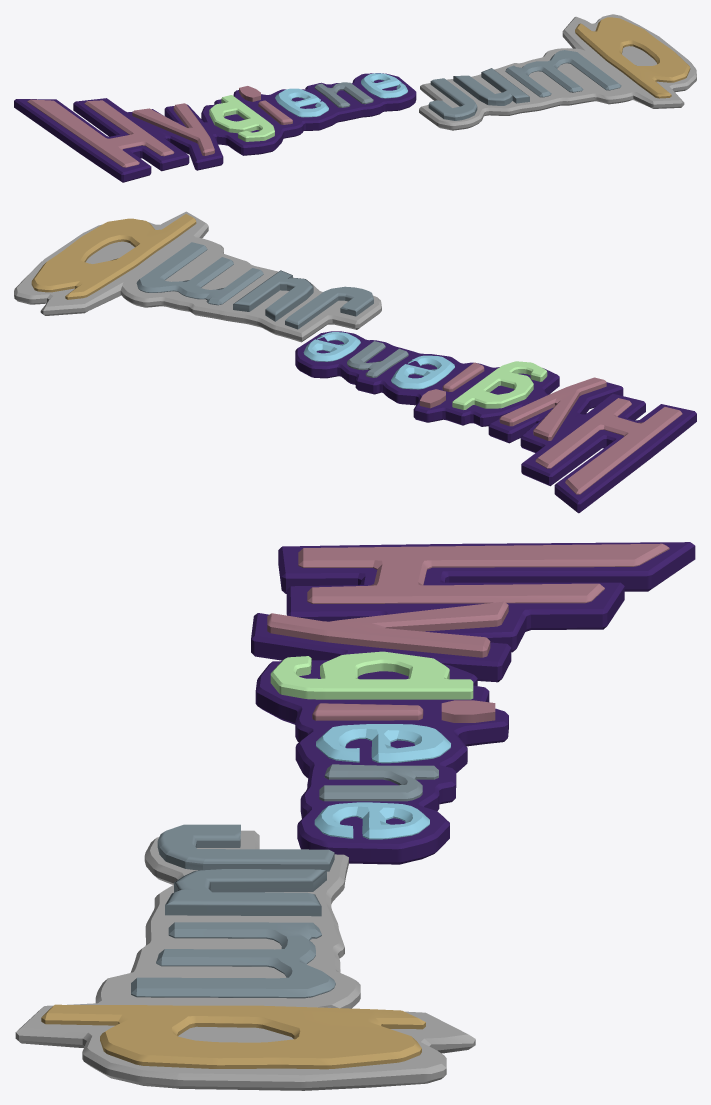
The model's file is Hygiene Jump.fbx.
The picture shows the model from 3 angles, top to bottom: view 1: azimuth 30°, elevation 25°; view 2: azimuth 150°, elevation 25°; view 3: azimuth 270°, elevation 25°; orthographic projection. The views are drawn at different scales.
Visible parts, largest first — view 1: pasted__i8, pasted__pCube8, pasted__p1, i4, h6, g1, i5, h4, h5, pasted__e5, pasted__e6, pasted__h3 (+1 smaller); view 2: pasted__i8, pasted__pCube8, pasted__p1, i4, h6, g1, i5, h4, h5, pasted__e5, pasted__e6, pasted__h3 (+1 smaller); view 3: pasted__i8, pasted__pCube8, pasted__p1, i4, h6, i5, g1, h4, h5, pasted__e5, pasted__h3, pasted__e6 (+2 smaller).
Part boxes in pixels (x1,y1,x2,y2): pasted__i8: (14, 73, 416, 182); pasted__pCube8: (419, 14, 696, 130); pasted__p1: (575, 17, 690, 98); i4: (27, 99, 174, 167); h6: (505, 50, 621, 97); g1: (209, 95, 274, 141); i5: (132, 103, 214, 155); h4: (453, 68, 529, 105); h5: (428, 78, 477, 120); pasted__e5: (275, 88, 328, 117); pasted__e6: (361, 73, 407, 98); pasted__h3: (314, 82, 373, 107); pasted__i8: (295, 331, 696, 513); pasted__pCube8: (14, 211, 381, 342); pasted__p1: (31, 214, 196, 299); i4: (535, 398, 682, 494); h6: (136, 242, 263, 305); g1: (452, 361, 547, 409); i5: (499, 377, 606, 440); h4: (233, 270, 313, 321); h5: (285, 286, 373, 329); pasted__e5: (391, 355, 454, 389); pasted__e6: (303, 332, 360, 361); pasted__h3: (347, 341, 408, 377); pasted__i8: (251, 542, 695, 864); pasted__pCube8: (15, 830, 475, 1090); pasted__p1: (41, 1004, 425, 1069); i4: (298, 543, 669, 603); h6: (131, 922, 335, 998); i5: (267, 601, 508, 657); g1: (270, 651, 473, 699); h4: (165, 869, 326, 916); h5: (157, 824, 334, 871); pasted__e5: (316, 724, 451, 763); pasted__h3: (319, 764, 438, 801); pasted__e6: (314, 802, 429, 839).
Bounding box in the file's own units: 9.92 × 0.2881 × 5.31.
